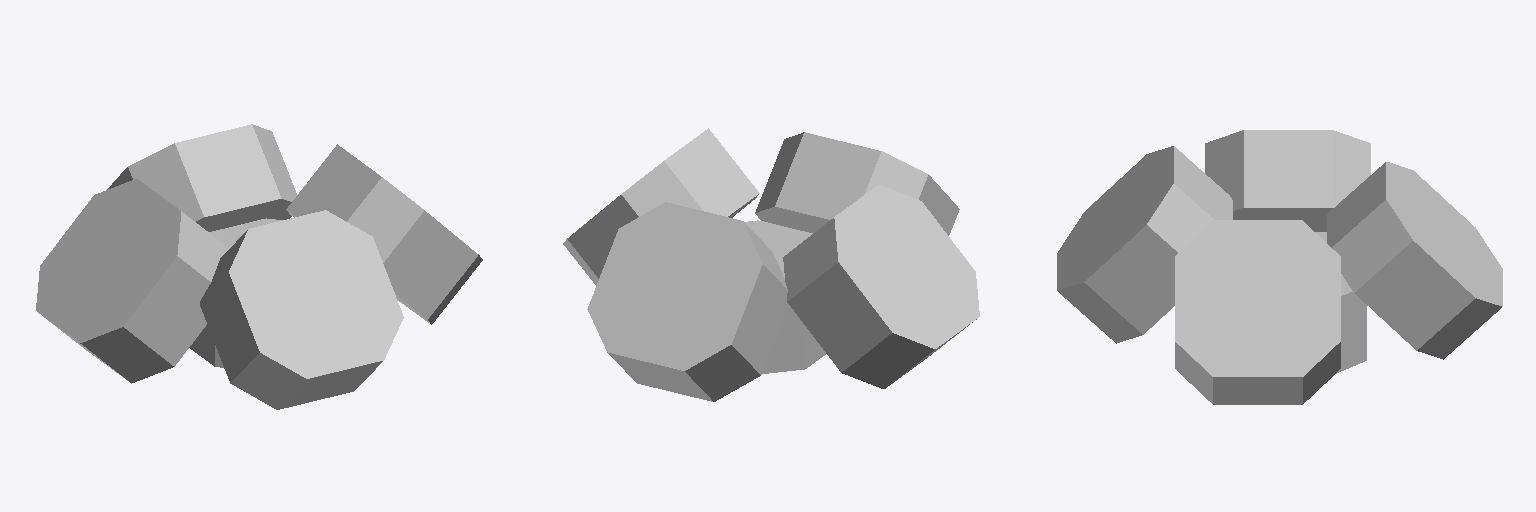
The model's file is stone_special.obj.
The picture shows the model from 3 angles: view 1: azimuth 30°, elevation 25°; view 2: azimuth 150°, elevation 25°; view 3: azimuth 270°, elevation 25°; orthographic projection.
Parts seen in each view (by area): view 1: stone_special; view 2: stone_special; view 3: stone_special.
Boxes of the visible parts, x1=… form: stone_special: x1=36, y1=124, x2=482, y2=409; stone_special: x1=563, y1=128, x2=979, y2=401; stone_special: x1=1057, y1=130, x2=1502, y2=404.
Bounding box in the file's own units: 2.69 × 1.07 × 2.68.